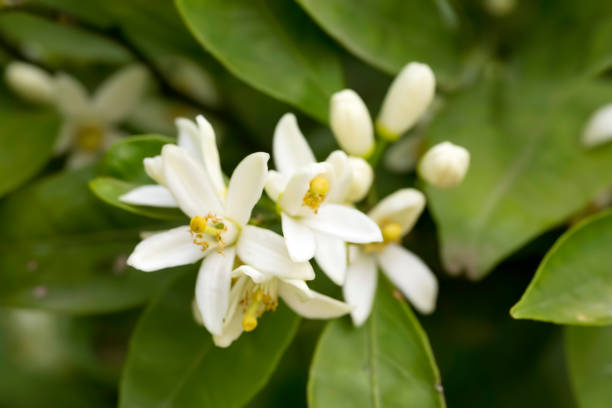flower: (119, 134, 310, 341), (294, 184, 469, 329), (254, 116, 392, 269)
